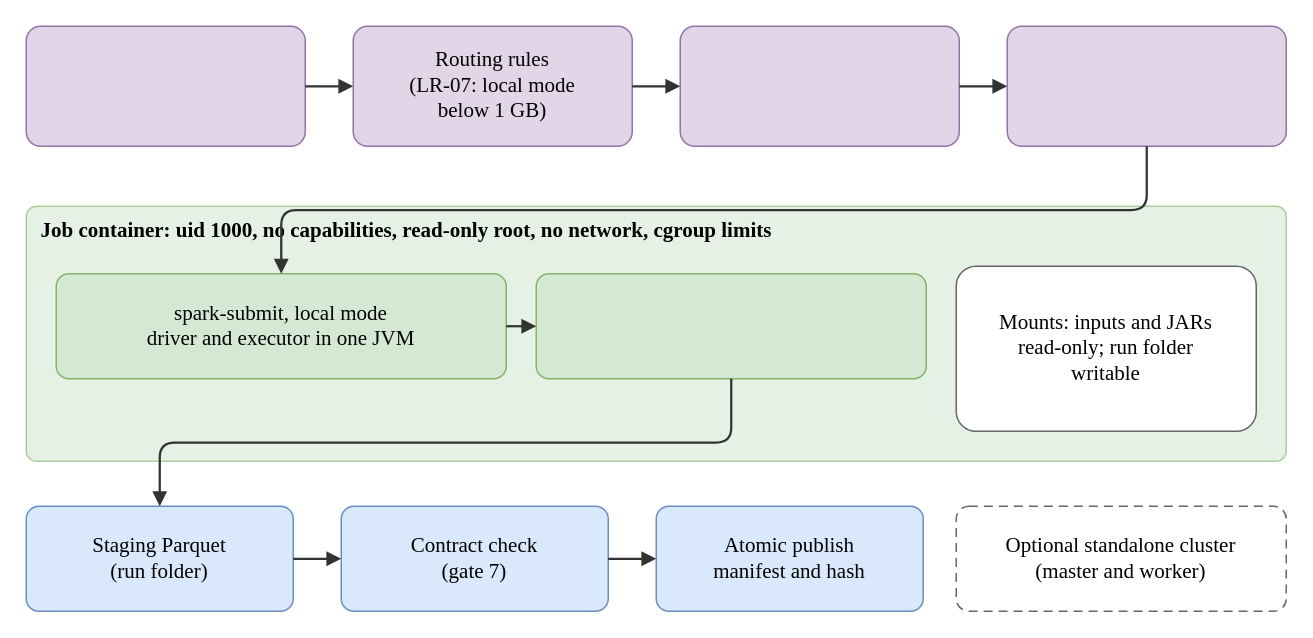
Some shapes in this 1313 by 638 pixel diagram are drawn without their labels. Here are the shapes that lost their labels. From the top down, the centre of each, then its label:
the point at 165,85: Worker
the point at 819,85: Tool registry spark.submit_job
the point at 1146,85: Sandbox runner (token, image allowlist)
the point at 730,325: Generated Scala job on the TriadJob core library
